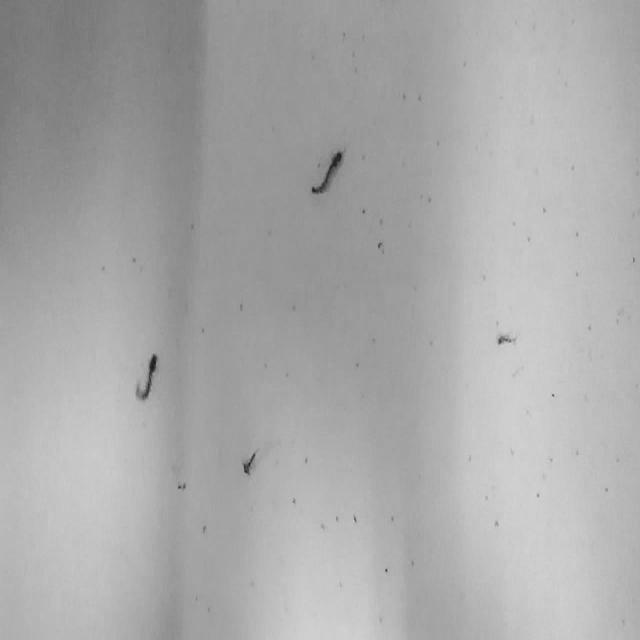larvas: (311, 148, 344, 194), (135, 353, 157, 399), (242, 446, 258, 474), (497, 332, 517, 344)
